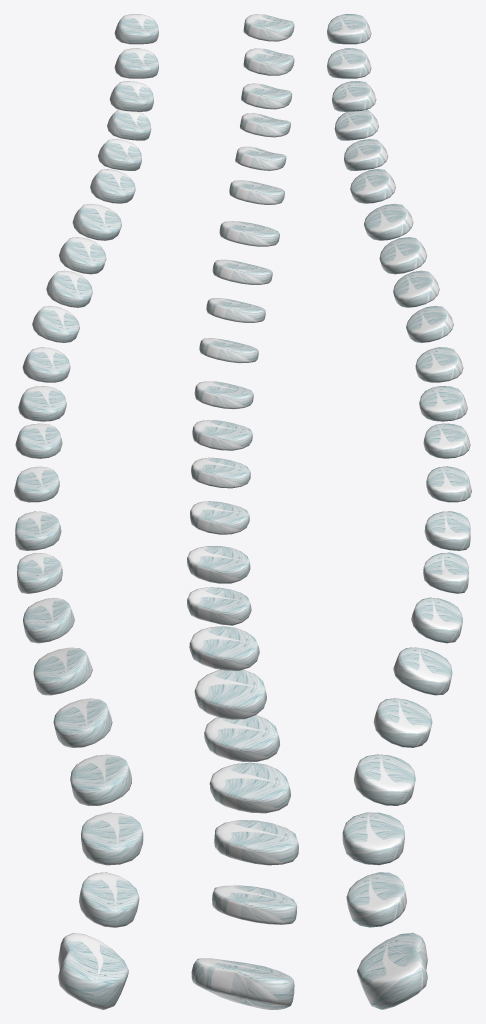
The model's file is Connective.Intervertebral_discs.22.obj.
3 renders of one model, left to right at view 1: azimuth 90°, elevation 25°; view 2: azimuth 150°, elevation 25°; view 3: azimuth 270°, elevation 25°, orthographic.
Visible parts, largest first — view 1: Connective:Intervertebral_discs:22_Intervertebral_discs.012; view 2: Connective:Intervertebral_discs:22_Intervertebral_discs.012; view 3: Connective:Intervertebral_discs:22_Intervertebral_discs.012.
Boxes of the visible parts, x1,y1,x2,y2 form: Connective:Intervertebral_discs:22_Intervertebral_discs.012: (14, 14, 158, 1009); Connective:Intervertebral_discs:22_Intervertebral_discs.012: (187, 14, 298, 1009); Connective:Intervertebral_discs:22_Intervertebral_discs.012: (327, 14, 471, 1009).
Size of the model in its own units: 0.2711 by 2.63 by 0.354.
